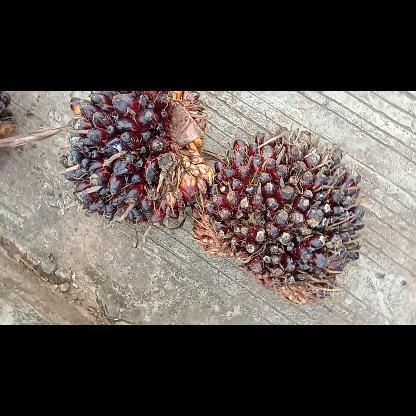TBS mentah: (190, 123, 367, 307), (59, 90, 215, 226)
